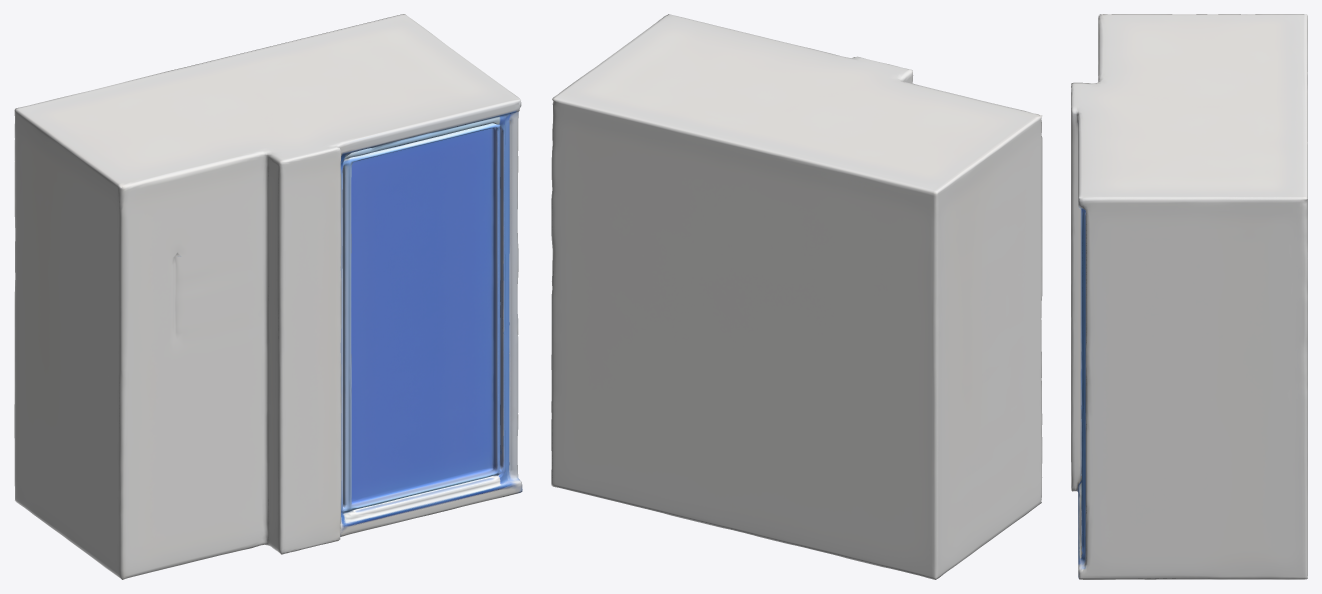
The model's file is Electrical-Cryo-Chamber.glb.
The picture shows the model from 3 angles, left to right: view 1: azimuth 30°, elevation 25°; view 2: azimuth 150°, elevation 25°; view 3: azimuth 270°, elevation 25°; orthographic projection. The views are drawn at different scales.
Visible parts, largest first — view 1: model; view 2: model; view 3: model.
Boxes of the visible parts, bbox=[...] form: model: bbox=[14, 14, 522, 579]; model: bbox=[551, 14, 1042, 579]; model: bbox=[1071, 14, 1307, 579].
Size of the model in its own units: 1.91 by 1.84 by 1.03.
Materials: 1 (1 with a texture image).
